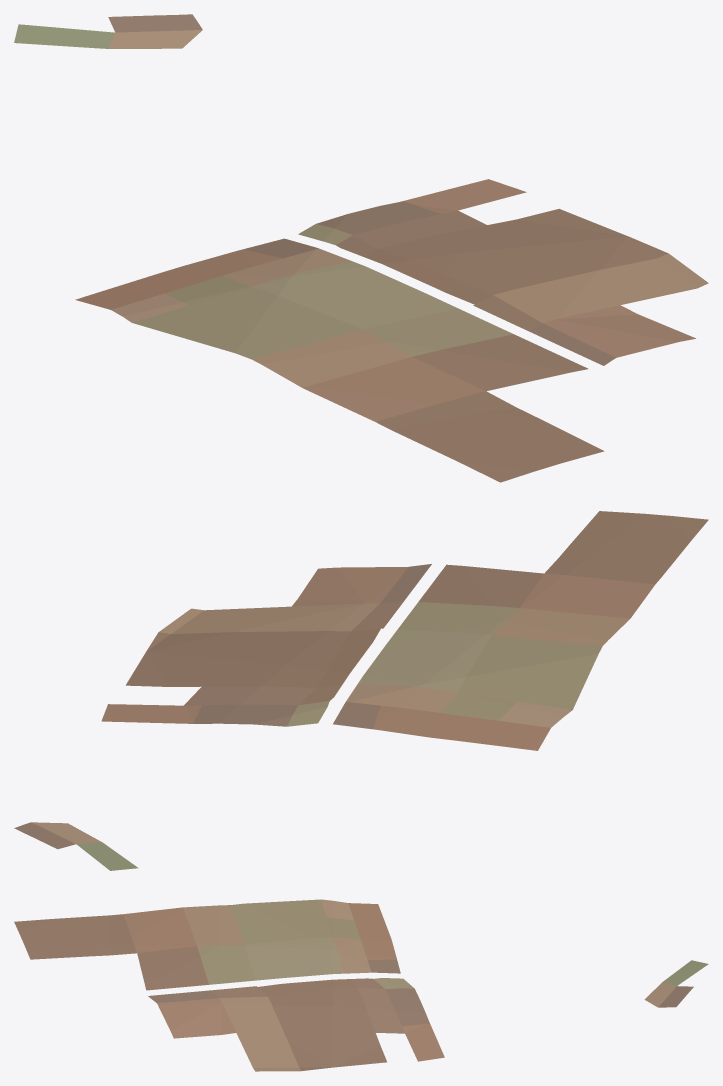
The model's file is farm_21_19_soil.glb.
The picture shows the model from 3 angles, top to bottom: view 1: azimuth 30°, elevation 25°; view 2: azimuth 150°, elevation 25°; view 3: azimuth 270°, elevation 25°; orthographic projection. The views are drawn at different scales.
Parts seen in each view (by area): view 1: geometry_0; view 2: geometry_0; view 3: geometry_0.
Part boxes in pixels (x1,y1,x2,y2): geometry_0: [14, 14, 708, 482]; geometry_0: [14, 511, 708, 870]; geometry_0: [14, 899, 708, 1071].
Bounding box in the file's own units: 251 × 27.02 × 499.
